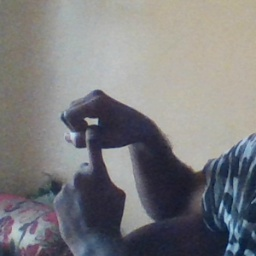Q: (49, 87, 142, 220)
